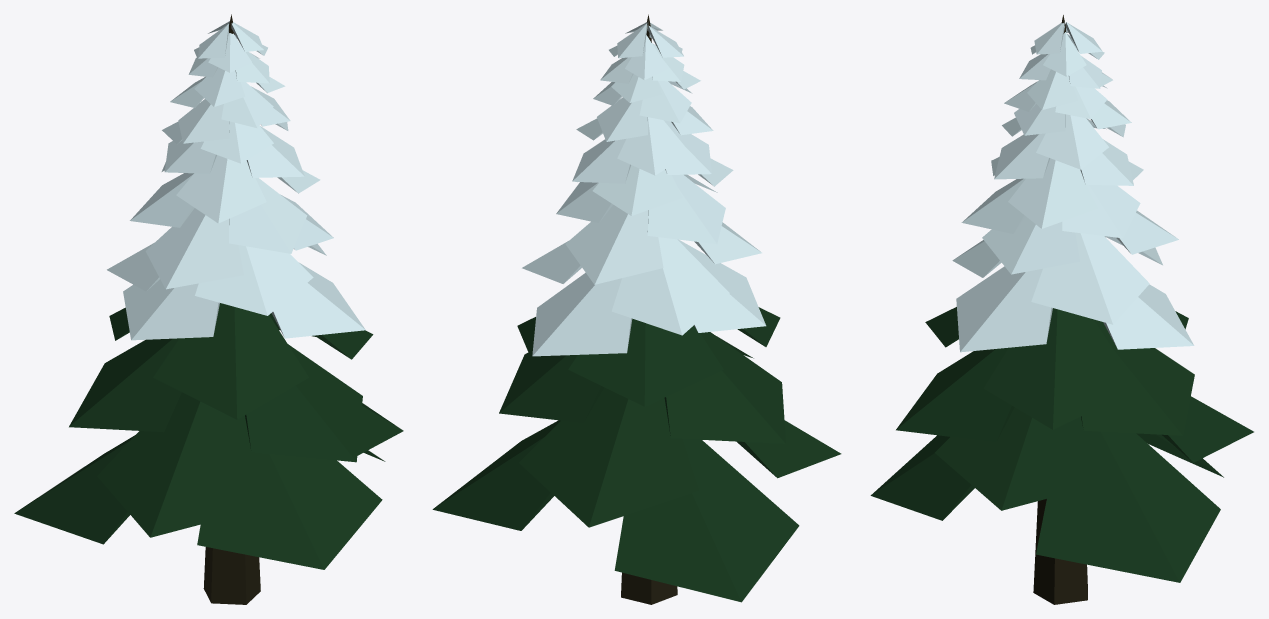
The model's file is BigTree.fbx.
The picture shows the model from 3 angles, left to right: view 1: azimuth 30°, elevation 25°; view 2: azimuth 150°, elevation 25°; view 3: azimuth 270°, elevation 25°; orthographic projection.
Visible parts, largest first — view 1: Pine2_Snow2; view 2: Pine2_Snow2; view 3: Pine2_Snow2.
Boxes of the visible parts, box(x1,y1,x2,y2) form: Pine2_Snow2: box(14, 14, 403, 604); Pine2_Snow2: box(432, 14, 841, 604); Pine2_Snow2: box(870, 15, 1253, 604).
Bounding box in the file's own units: 4.17 × 7.37 × 4.43.
